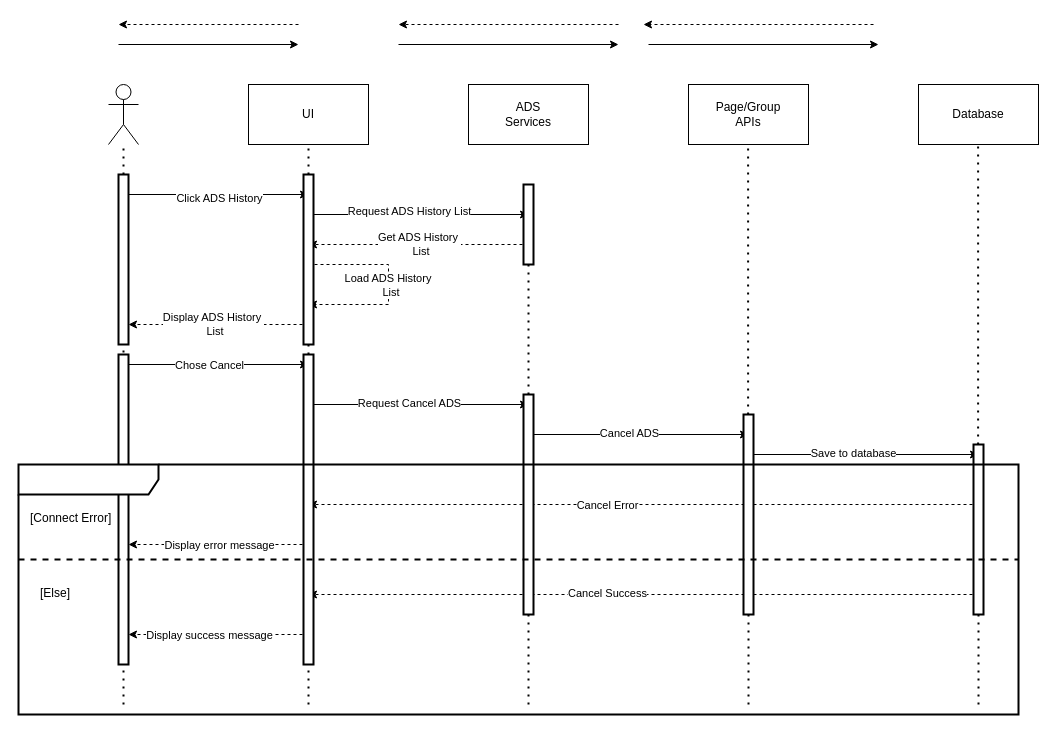
Some shapes in this 1056 by 733 pixel diagram are drawn without their labels. Here are the shapes that lost their labels. From the top down, the box of each, then its label:
(108, 84, 138, 144): User
(17, 463, 1019, 715): Alternative
